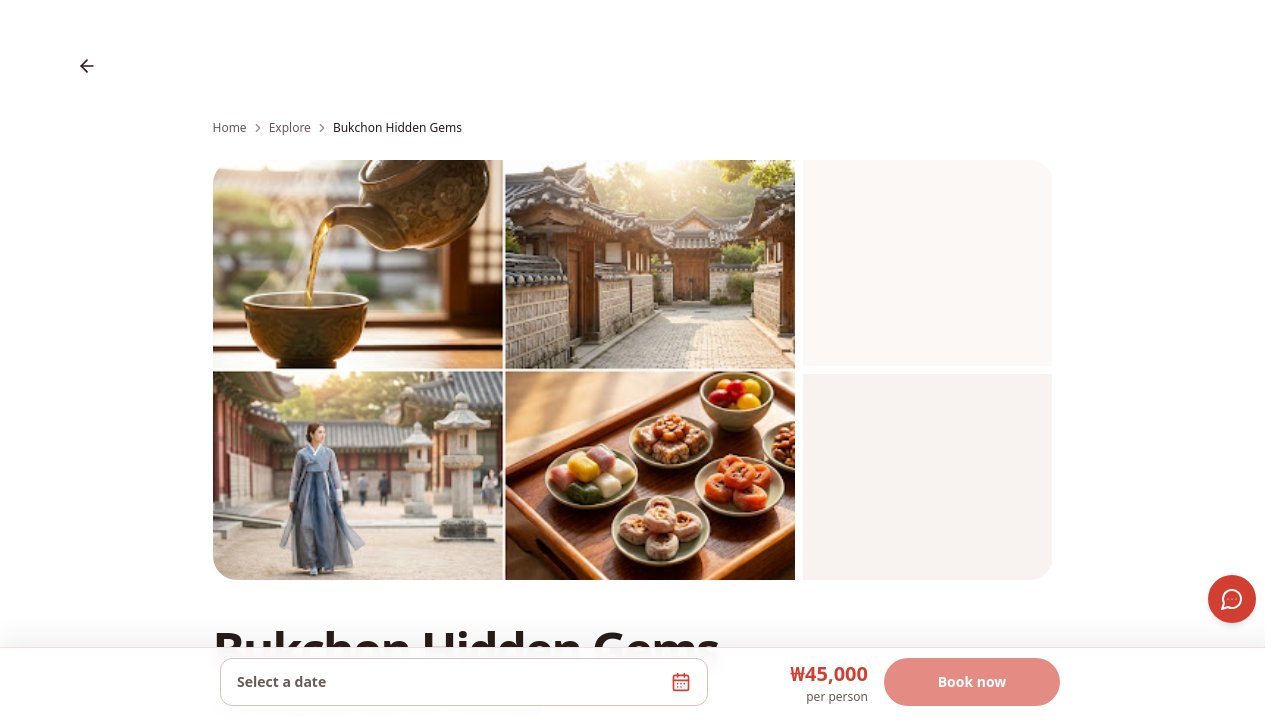
Test case: ActivityDetailContent › asks a guest to log in from a popup instead of leaving the detail page
Click the button with test id "date-select-box" at {"x": 282, "y": 682}, box [220,658,708,706]
(page scrolled)
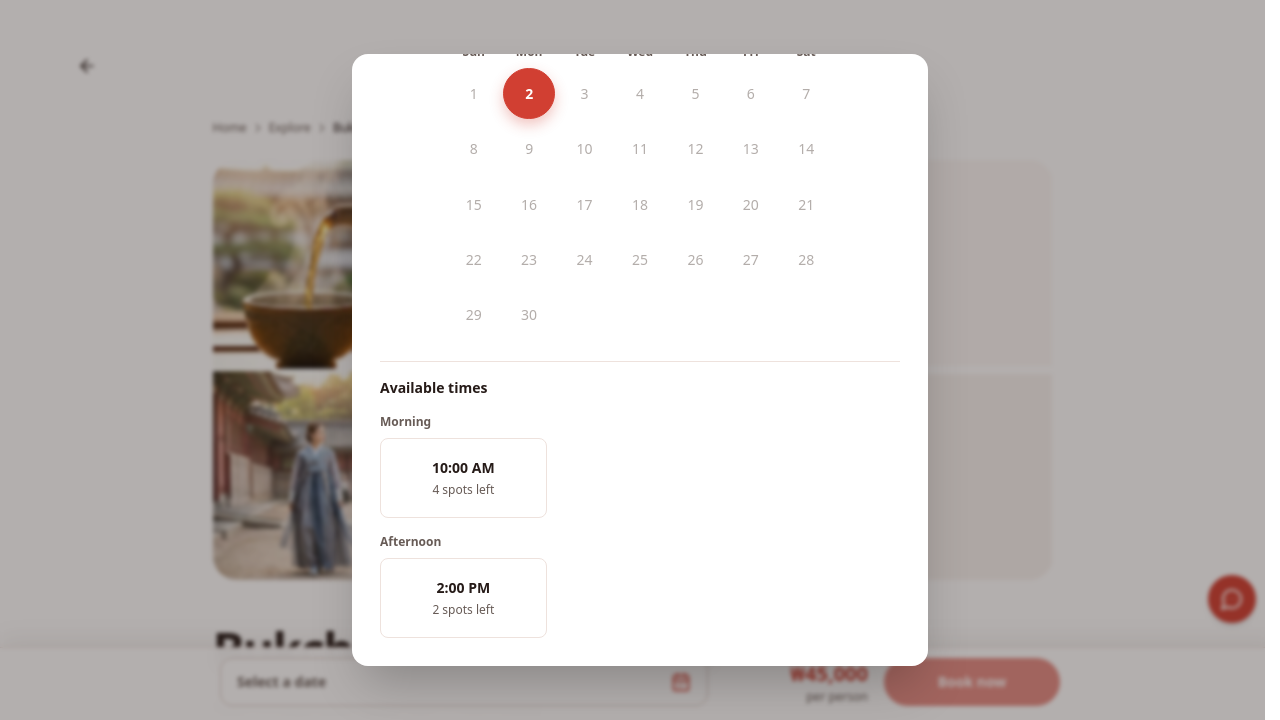
Click the button "2:00 PM 2 spots left" at {"x": 463, "y": 598}, box [380,558,547,638]
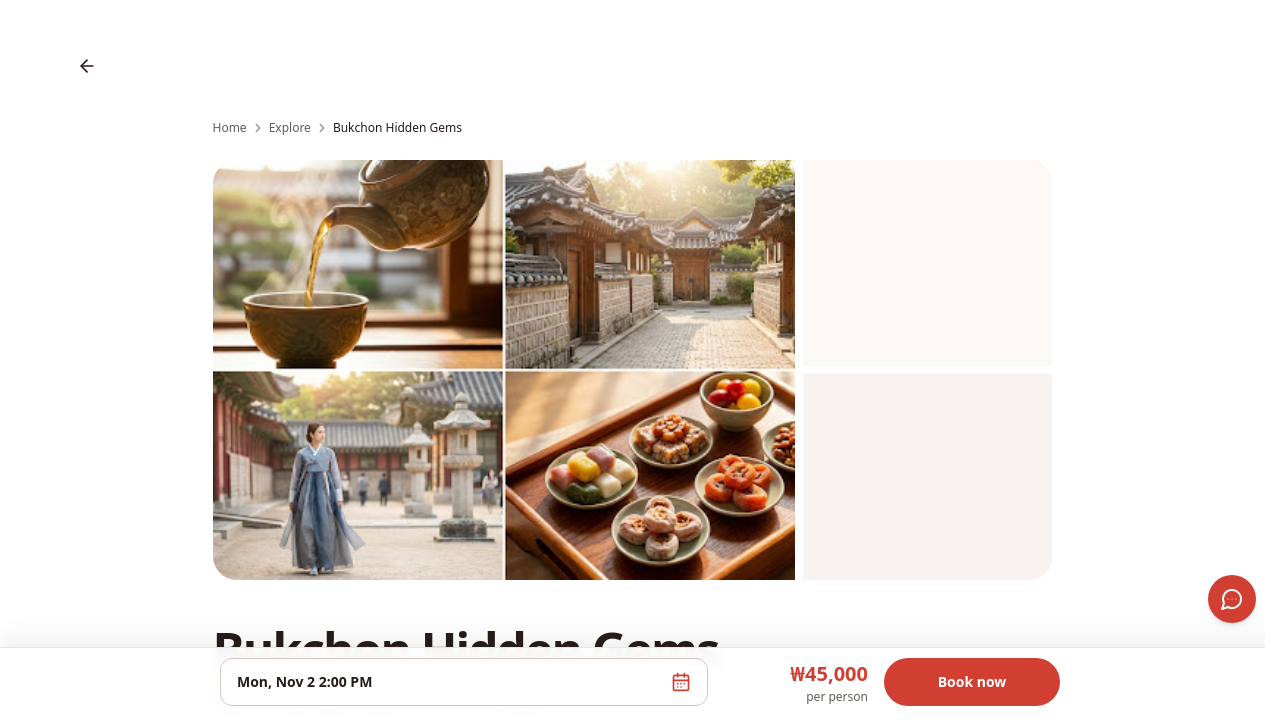
Expected: the dialog is gone
Expected: the button "Book now" is enabled
Click the button "Book now" at {"x": 972, "y": 682}, box [884,658,1060,706]
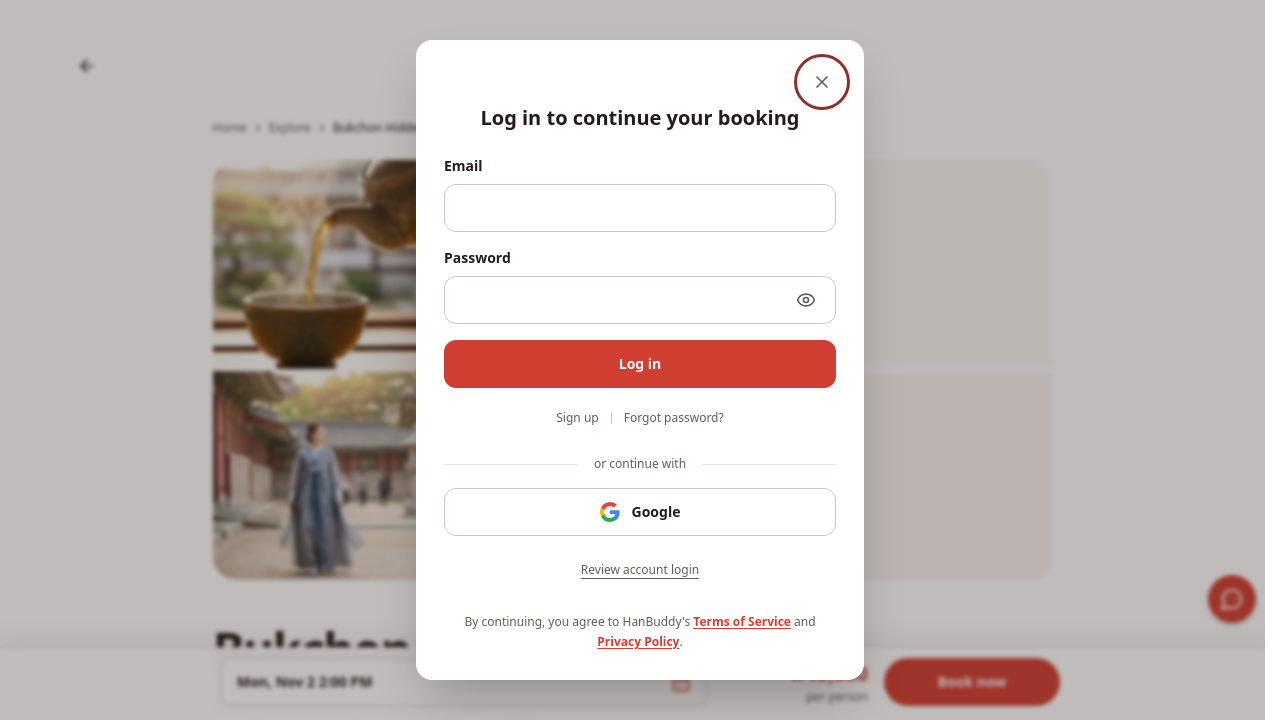
# 닫으면 고른 일정이 그대로 남는다
Click the button named "Close dialog" at {"x": 822, "y": 82}, box [800,60,844,104]
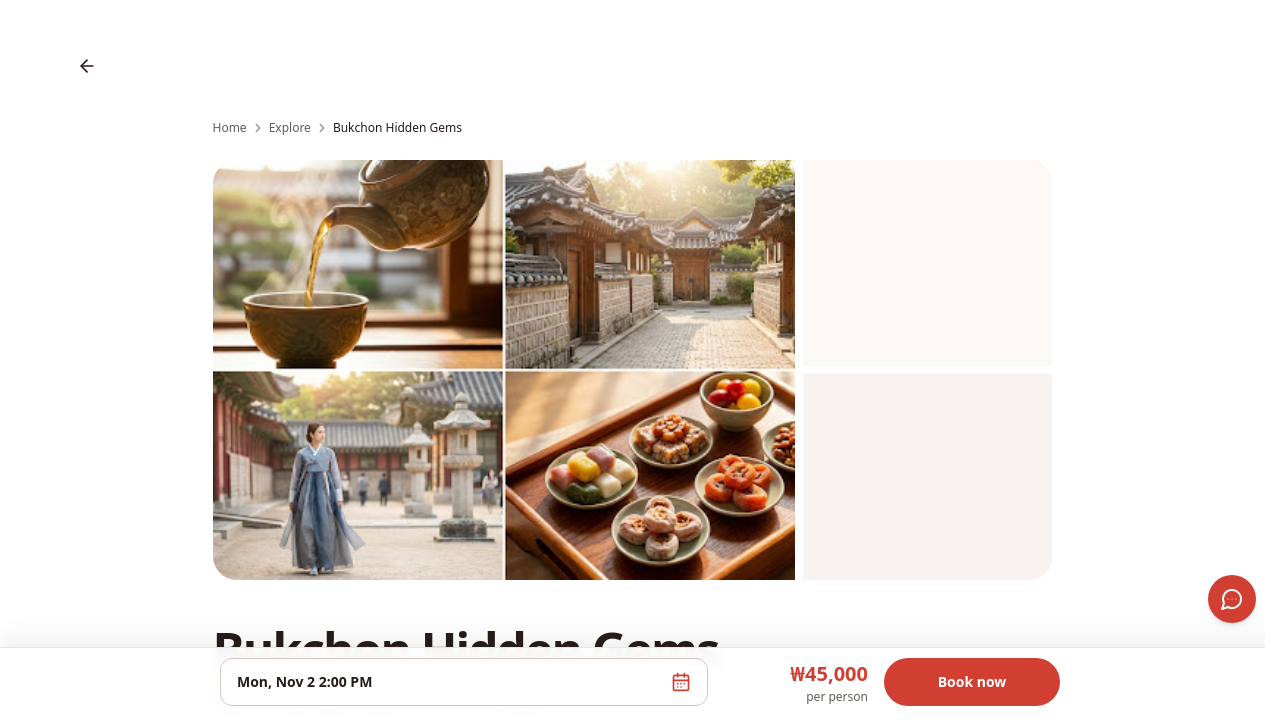
Expected: the button with test id "date-select-box" shows "2:00 PM", [220,658,708,706]
Expected: the dialog is gone
